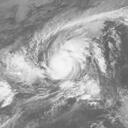cyclone: (46, 35, 92, 81)
